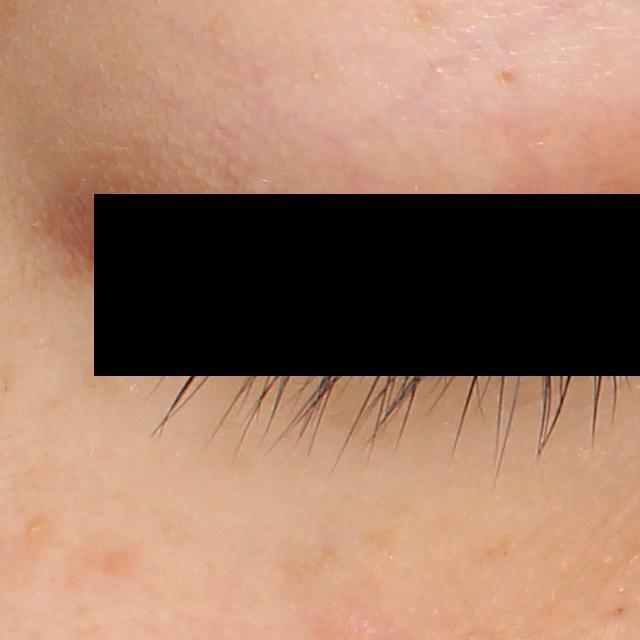melasma: (273, 537, 348, 591), (82, 360, 118, 409)
